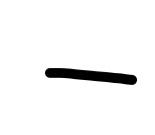minus: (45, 67, 137, 87)
